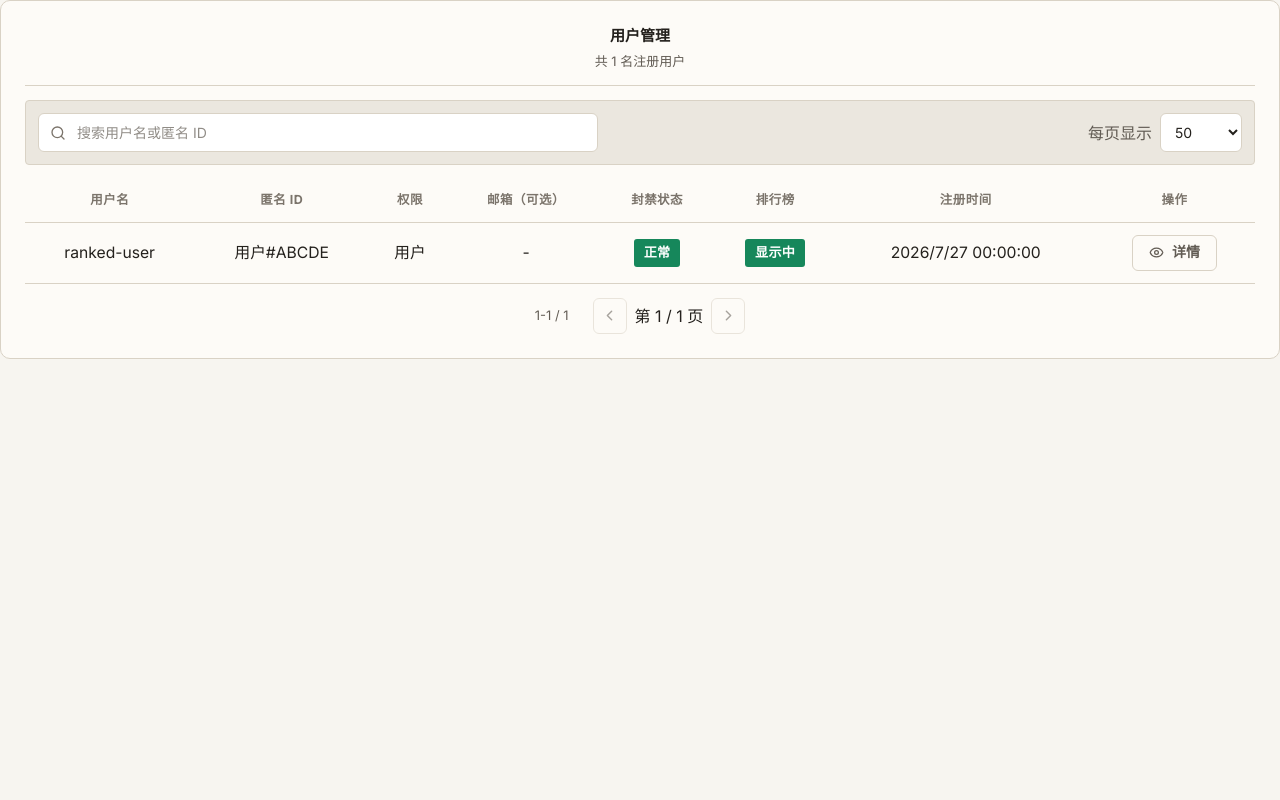
Test: AdminUsers › opens one details action with four lazy-loaded tabs
This screenshot has width=1280, height=800.
Click the button "详情" at (1174, 253), box [1132,235,1217,271]
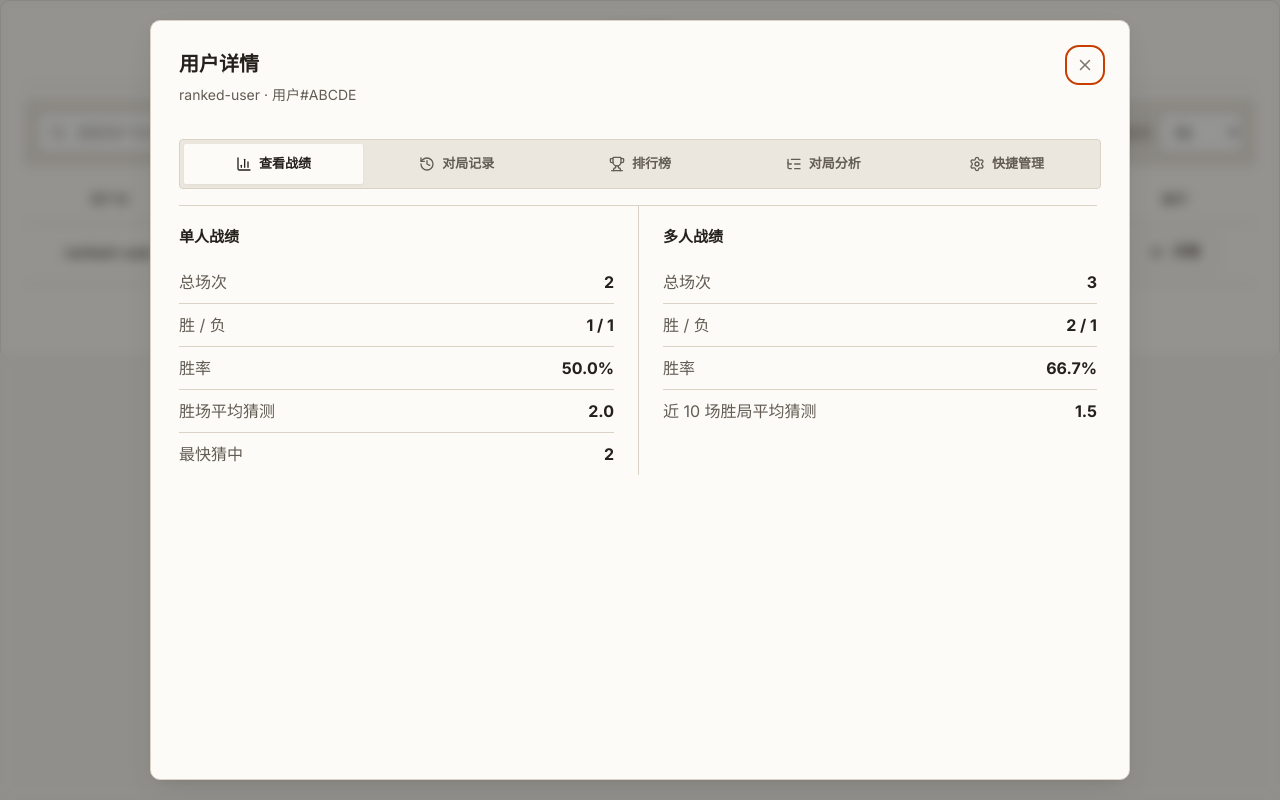
Expected: the dialog is shown
Expected: the tab "查看战绩" is shown, [184,144,363,184]
Expected: the tab "对局记录" is shown, [367,144,546,184]
Click the tab "排行榜" at (640, 164), box [550,144,730,184]
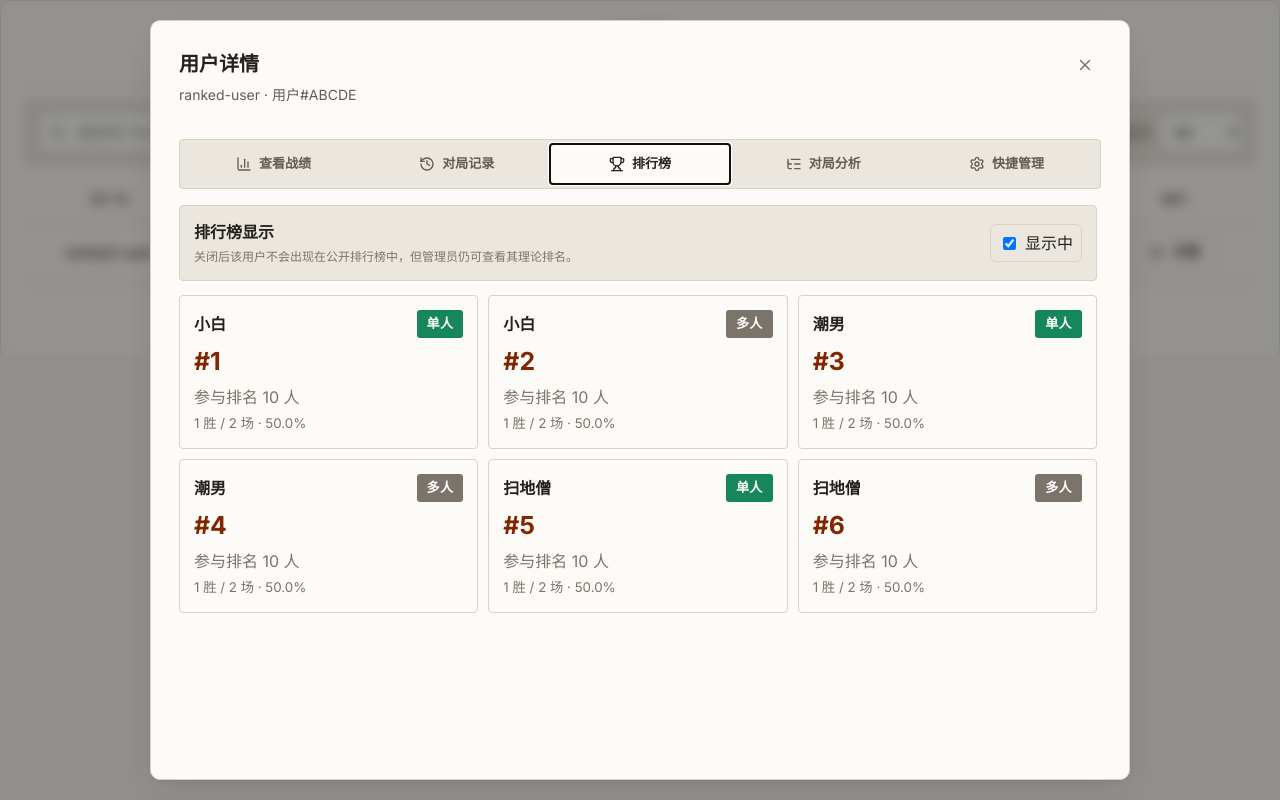
Expected: the text "#1" is shown, [194,346,221,376]
Click the tab "对局分析" at (823, 164), box [734,144,913,184]
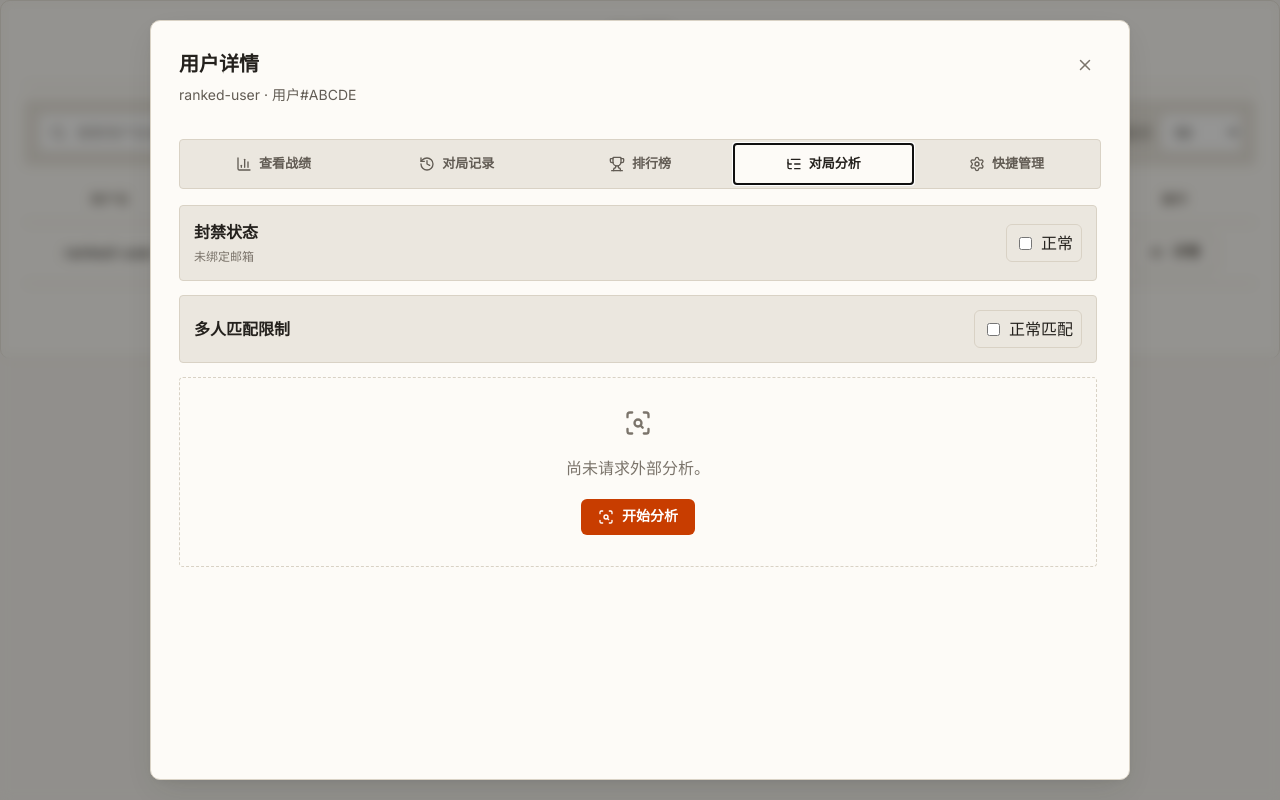
Expected: the text "尚未请求外部分析。" is shown, [566,456,710,480]
Click the button "开始分析" at (638, 517), box [581,499,695,535]
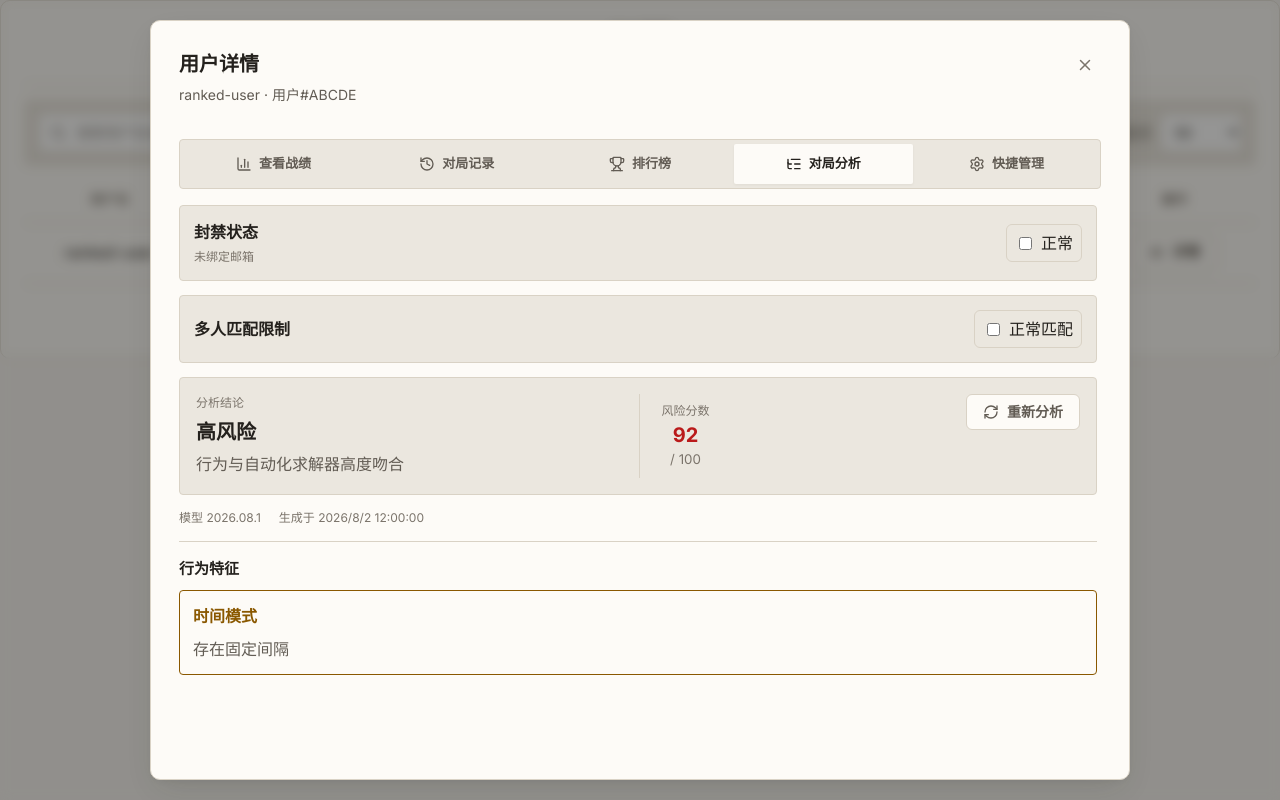
Expected: the text "高风险" is shown, [196,420,256,444]
